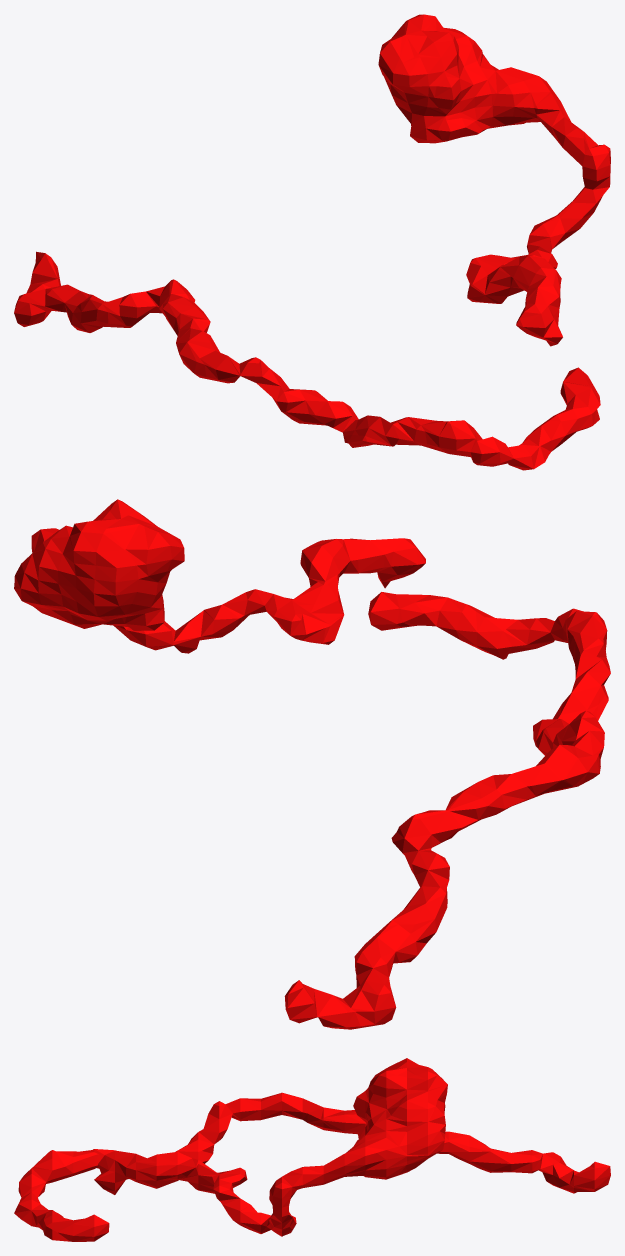
The model's file is zipA_coarse.dae.
The picture shows the model from 3 angles, top to bottom: view 1: azimuth 30°, elevation 25°; view 2: azimuth 150°, elevation 25°; view 3: azimuth 270°, elevation 25°; orthographic projection. The views are drawn at different scales.
Visible parts, largest first — view 1: zipA; view 2: zipA; view 3: zipA.
Boxes of the visible parts, box(x1,y1,x2,y2) form: zipA: box(14, 14, 610, 470); zipA: box(14, 499, 610, 1029); zipA: box(14, 1058, 610, 1241).
Bounding box in the file's own units: 160 × 103 × 230.
